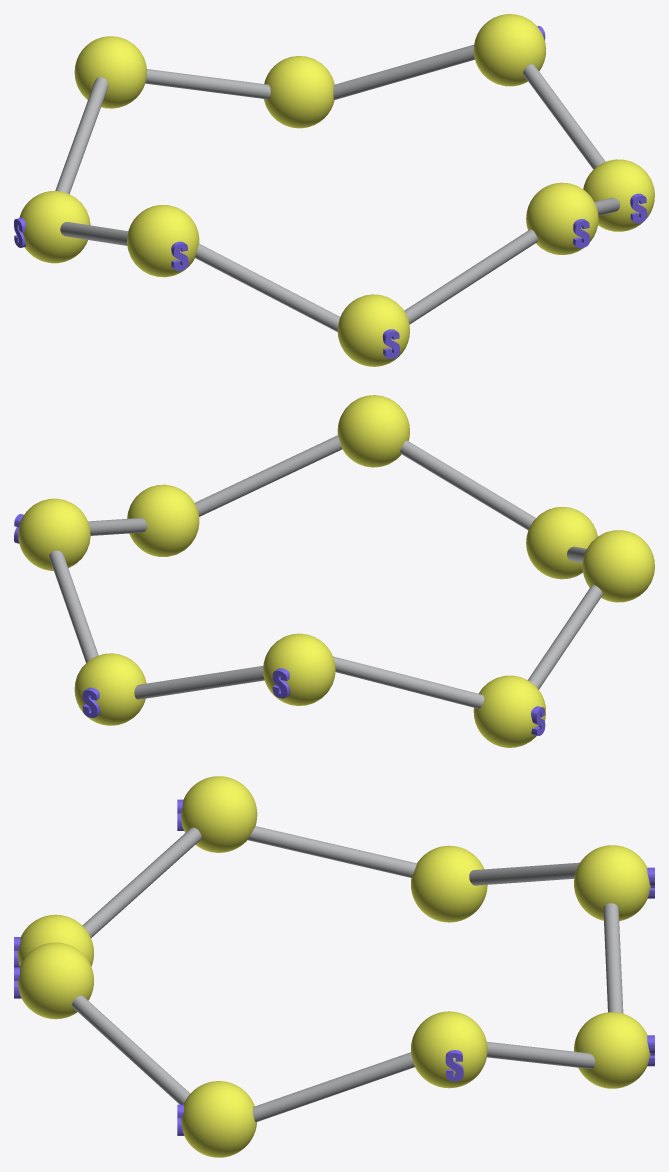
Rendered from asset.glb.
The picture shows the model from 3 angles, top to bottom: view 1: azimuth 30°, elevation 25°; view 2: azimuth 150°, elevation 25°; view 3: azimuth 270°, elevation 25°; orthographic projection. The views are drawn at different scales.
Parts seen in each view (by area): view 1: 3DGeom-3, 3DGeom-1, 3DGeom-2; view 2: 3DGeom-3, 3DGeom-1, 3DGeom-2; view 3: 3DGeom-3, 3DGeom-1, 3DGeom-2.
Boxes of the visible parts, box(x1,y1,x2,y2) form: 3DGeom-3: box(19, 14, 654, 366); 3DGeom-1: box(55, 44, 620, 331); 3DGeom-2: box(14, 26, 647, 358); 3DGeom-3: box(18, 395, 654, 747); 3DGeom-1: box(49, 435, 602, 708); 3DGeom-2: box(14, 514, 545, 735); 3DGeom-3: box(17, 776, 650, 1157); 3DGeom-1: box(72, 826, 623, 1122); 3DGeom-2: box(14, 799, 654, 1135).
Size of the model in its own units: 1.66 by 0.4 by 1.67.
